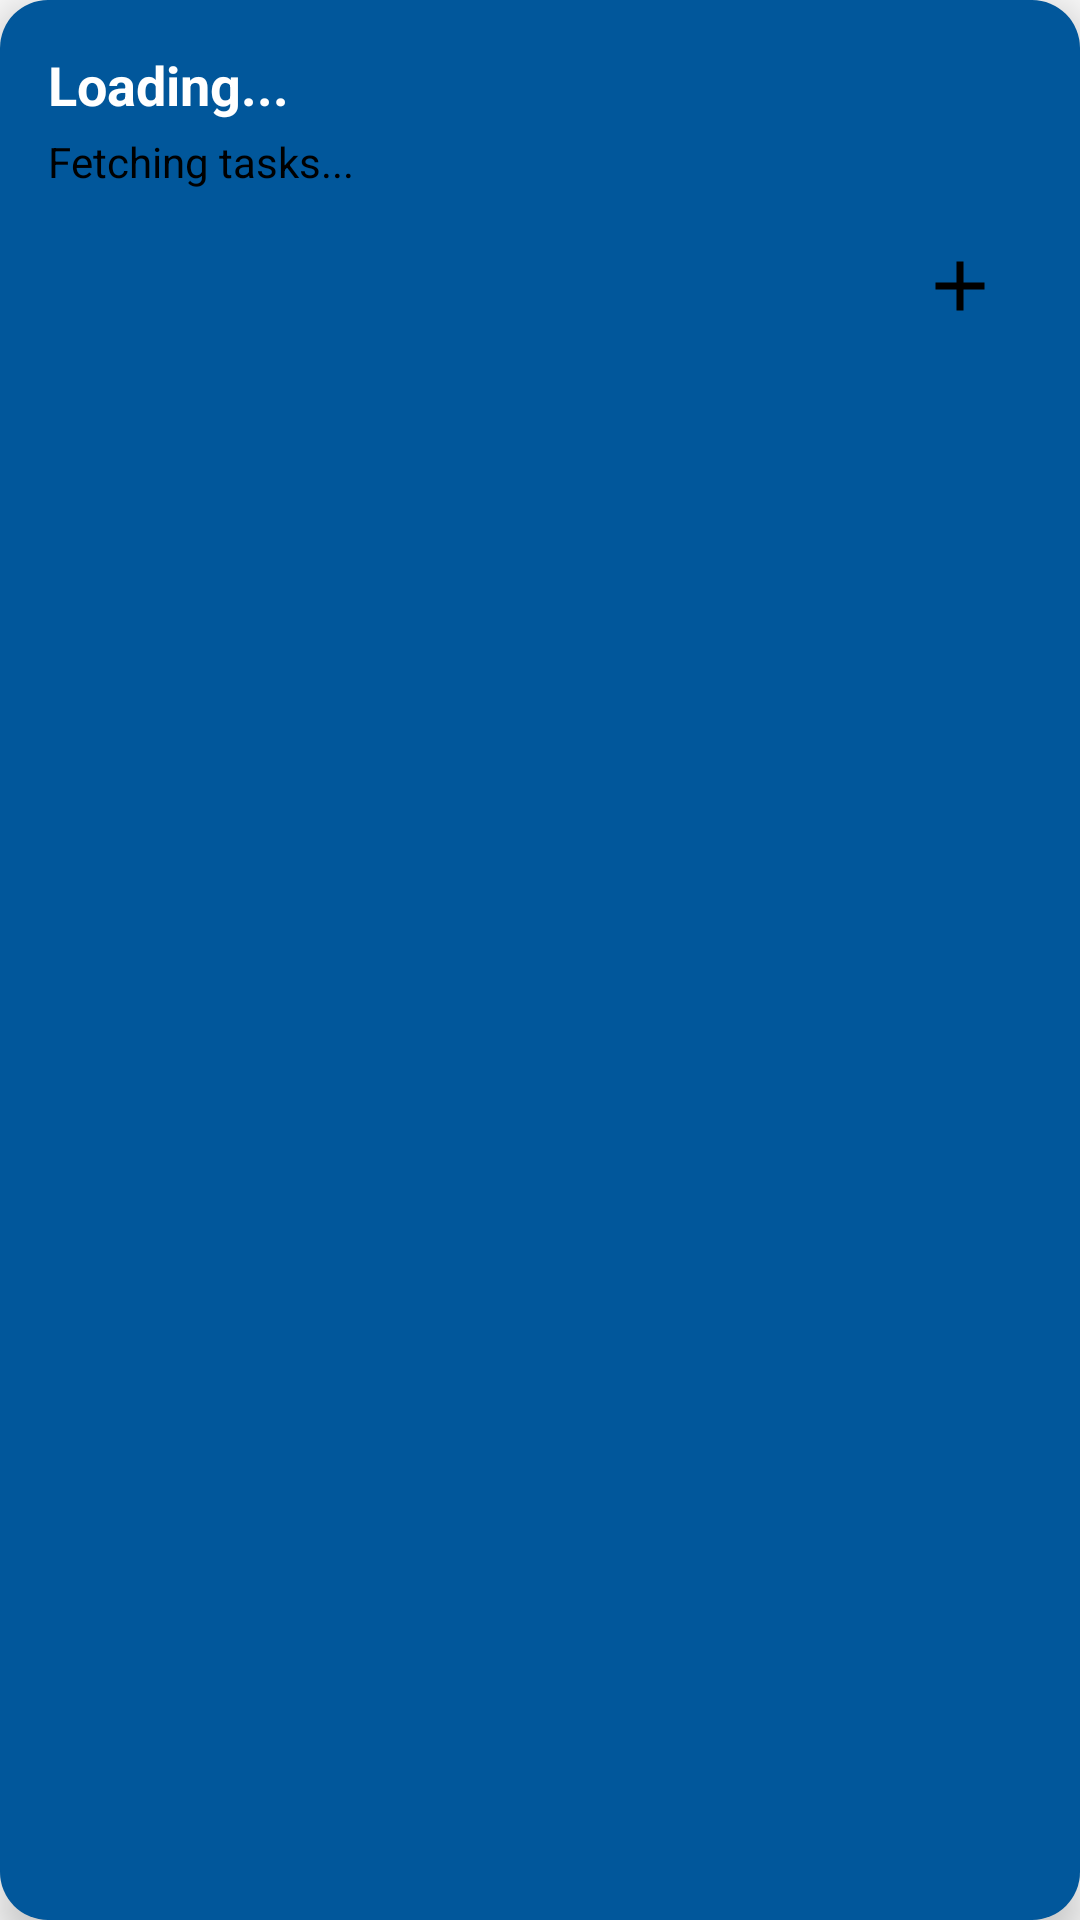

Named icons in this screenshot (1080×1920) and their bounding boxes, (x1, y1, x2, y2):
Add Task: (935, 261, 985, 311)
